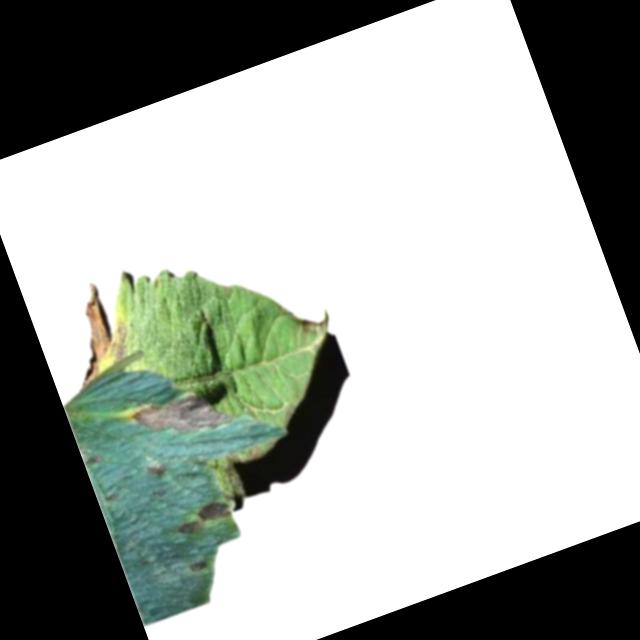Early_blight: (50, 278, 139, 391), (128, 378, 234, 456), (171, 497, 234, 537), (145, 459, 167, 482)
